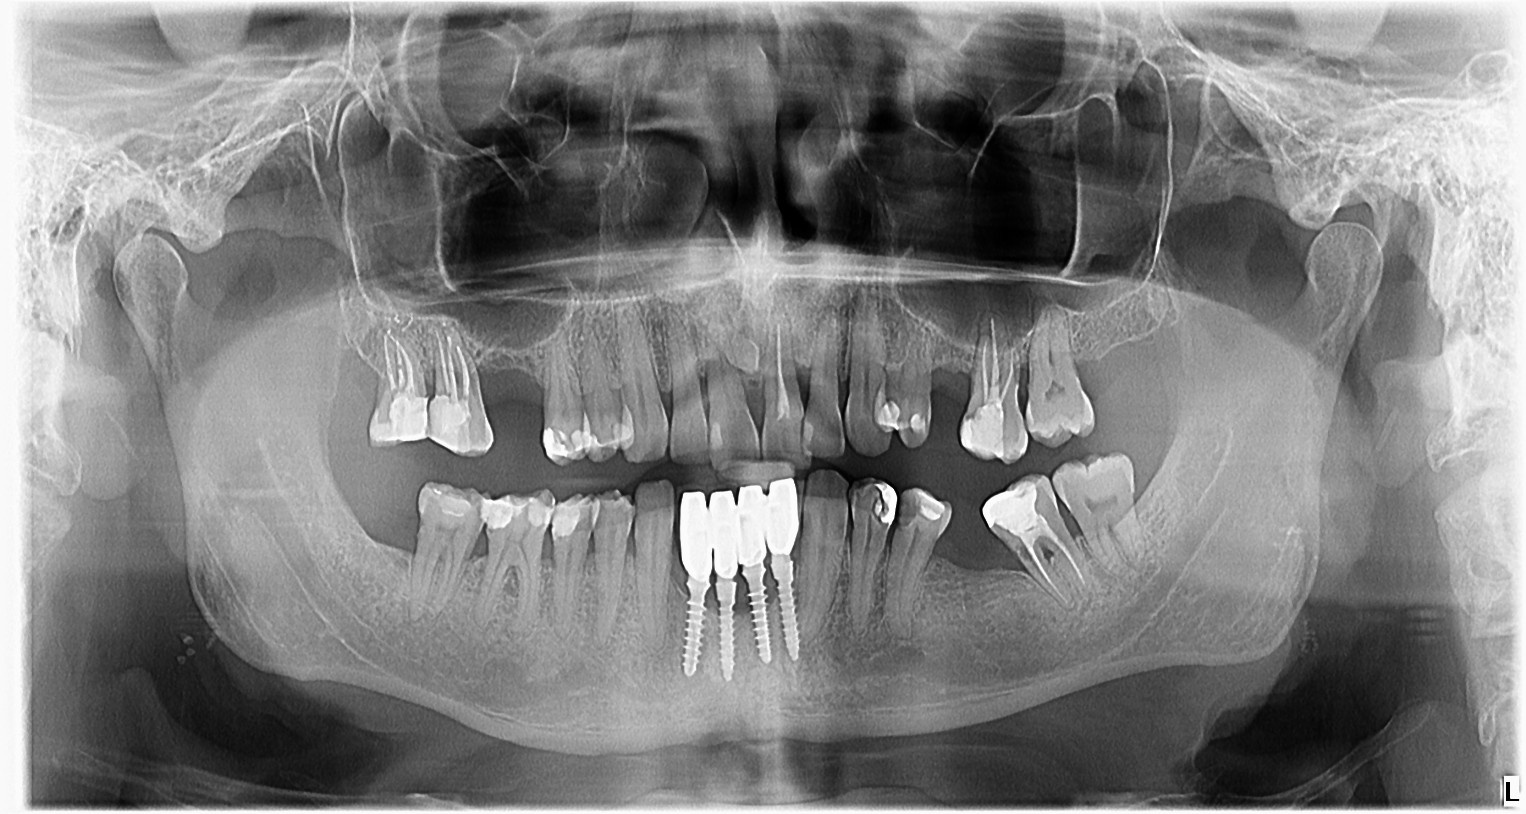END: (1010, 516, 1090, 609), (966, 308, 1019, 416), (367, 323, 425, 402), (425, 322, 478, 404), (765, 300, 797, 420)
IMP: (762, 547, 810, 671), (735, 556, 779, 685), (668, 571, 715, 683), (706, 569, 746, 687)
OBT: (979, 475, 1045, 546), (422, 392, 480, 468), (408, 475, 478, 535), (370, 394, 431, 459), (956, 405, 1015, 468), (904, 480, 952, 540), (861, 466, 899, 537), (474, 489, 520, 541), (876, 383, 906, 446), (536, 425, 573, 474), (568, 402, 595, 469), (523, 490, 556, 544), (555, 490, 585, 548), (905, 389, 934, 444), (610, 403, 639, 453), (701, 414, 726, 466), (794, 417, 819, 464)
PRR: (664, 469, 802, 576)
